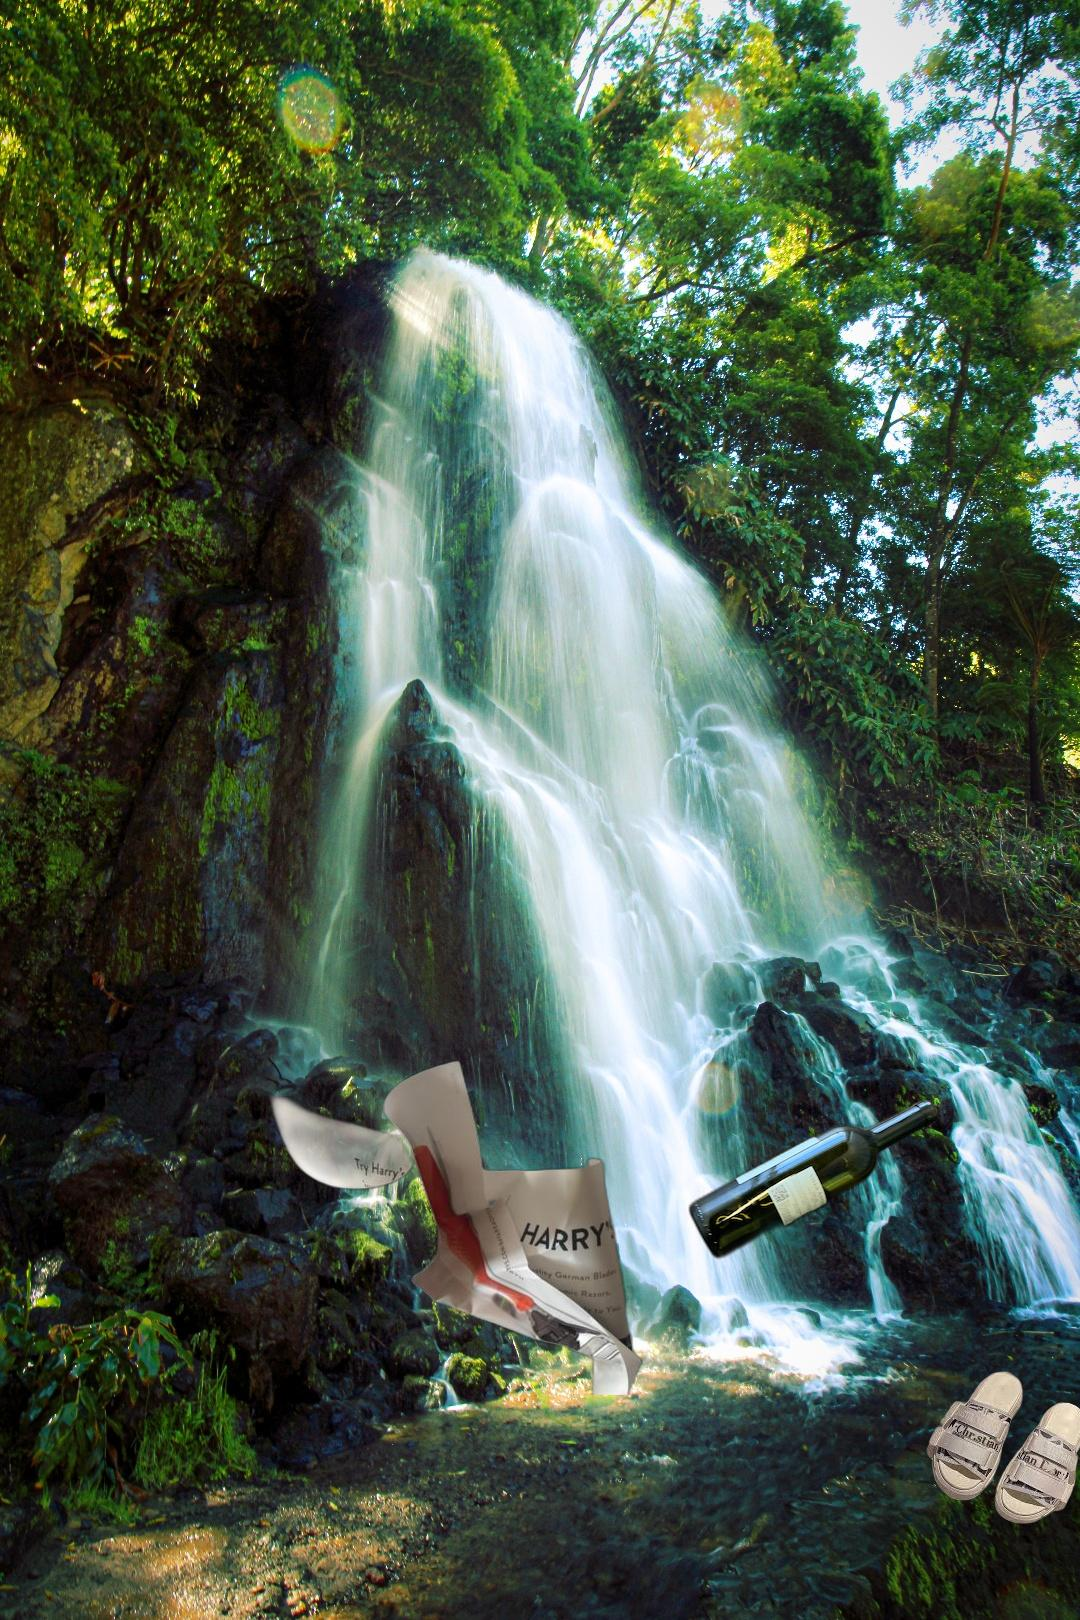glass: (683, 1093, 943, 1264)
paper: (242, 1060, 647, 1395)
shoes: (922, 1368, 1080, 1526)
